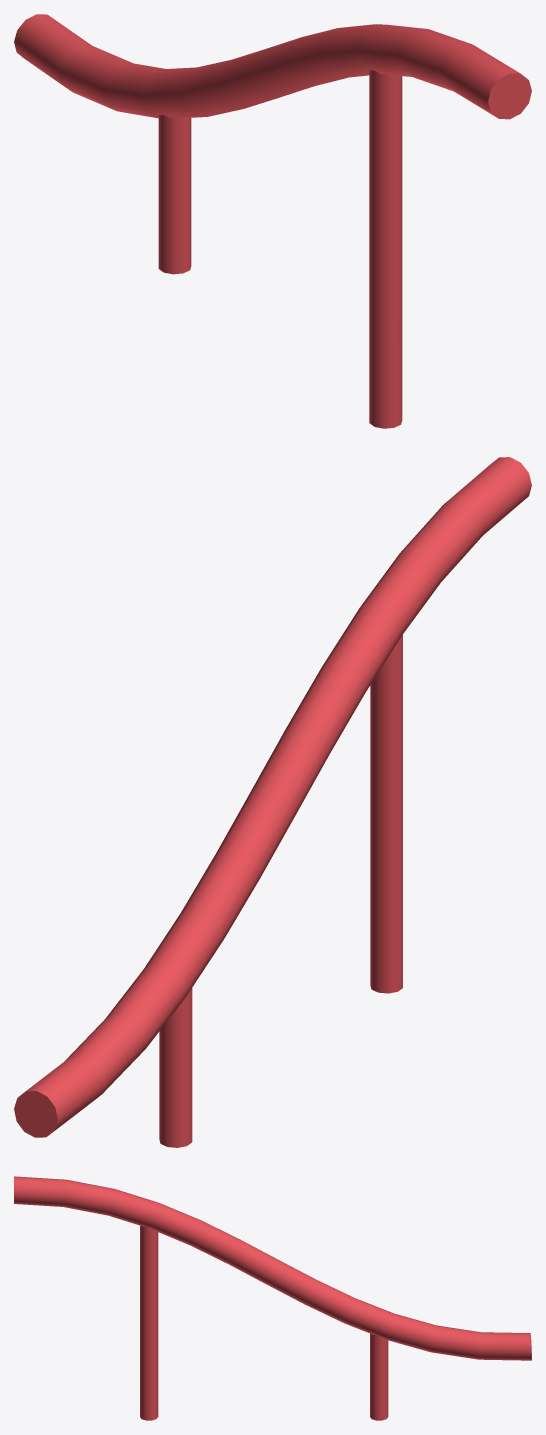
File: rail_bottom_top.glb
3 renders of one model, top to bottom at view 1: azimuth 30°, elevation 25°; view 2: azimuth 150°, elevation 25°; view 3: azimuth 270°, elevation 25°, orthographic. The views are drawn at different scales.
Visible parts, largest first — view 1: BézierCurve; view 2: BézierCurve; view 3: BézierCurve.
Boxes of the visible parts, x1,y1,x2,y2 form: BézierCurve: (14,14,531,428); BézierCurve: (14,457,531,1147); BézierCurve: (14,1176,531,1420).
Bounding box in the file's own units: 0.8 × 7.64 × 14.98.
